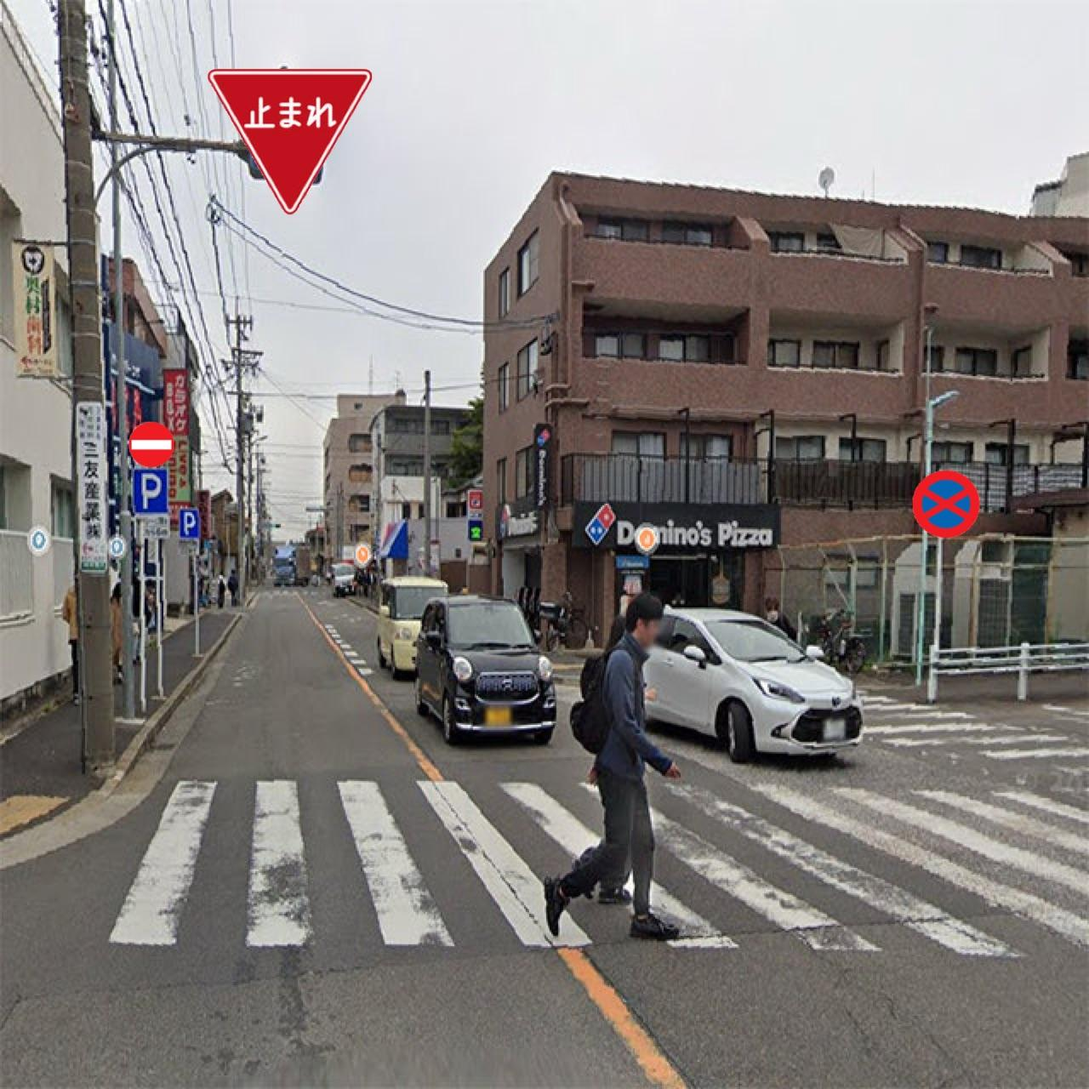barrier: (128, 421, 176, 471)
stop_sign: (910, 468, 979, 538)
